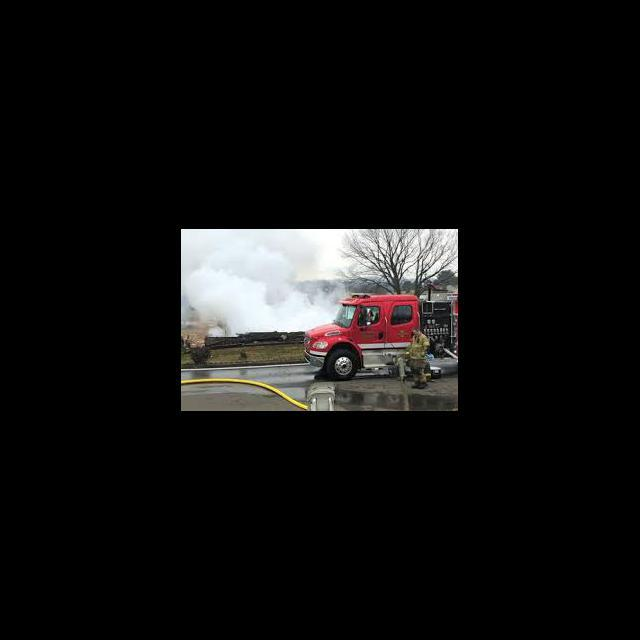Smoke: (183, 233, 285, 314), (228, 267, 311, 330), (313, 288, 332, 320)
